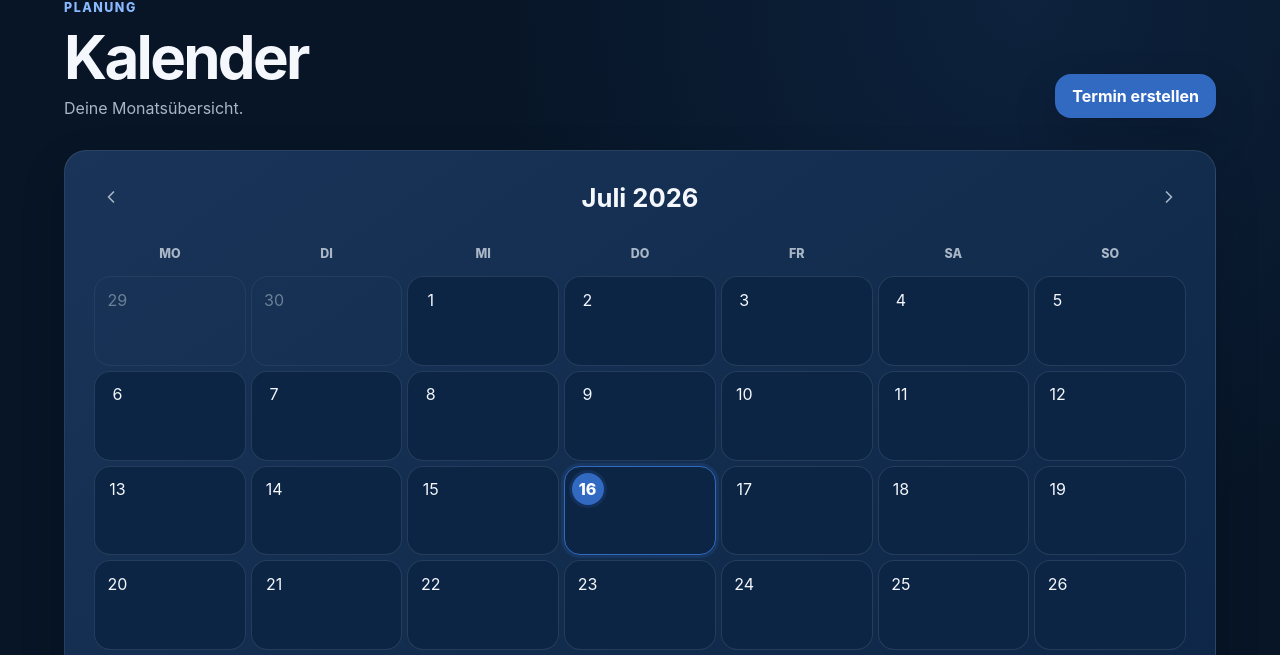
Test: CalendarPage › keeps the dialog open and the calendar unchanged after a storage failure
Click the button "20" at [170, 605], box [94, 560, 246, 650]
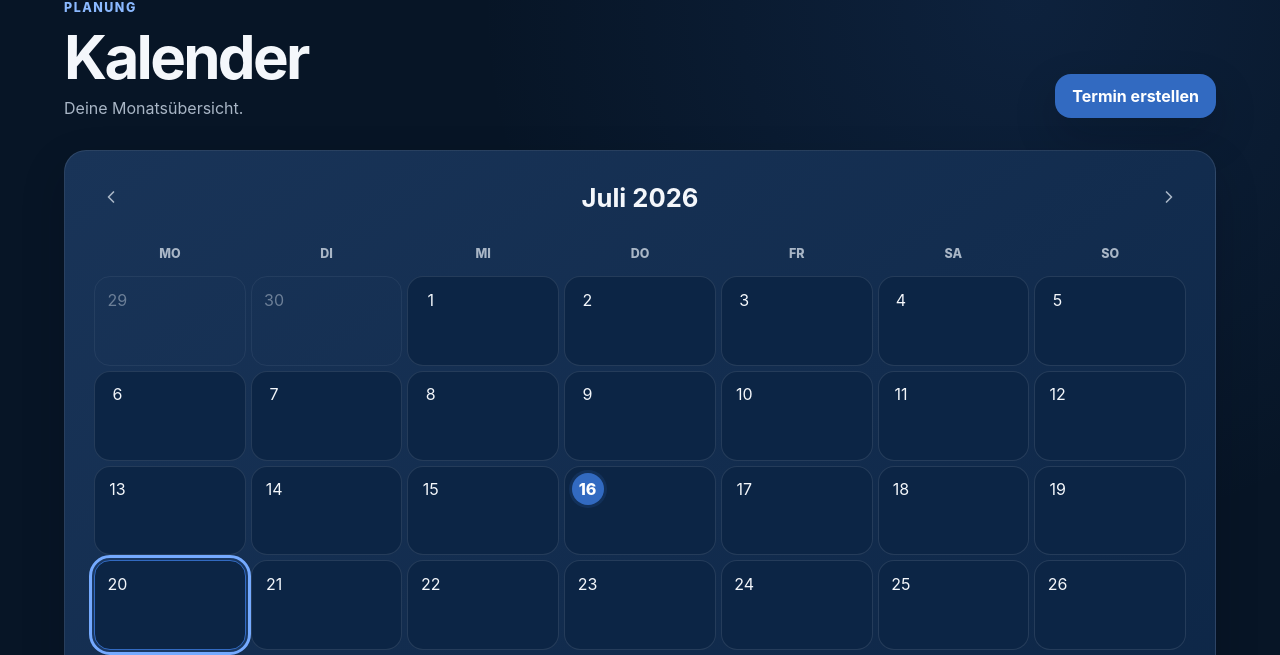
Click the button "Termin erstellen" at [1136, 96], box [1055, 74, 1216, 118]
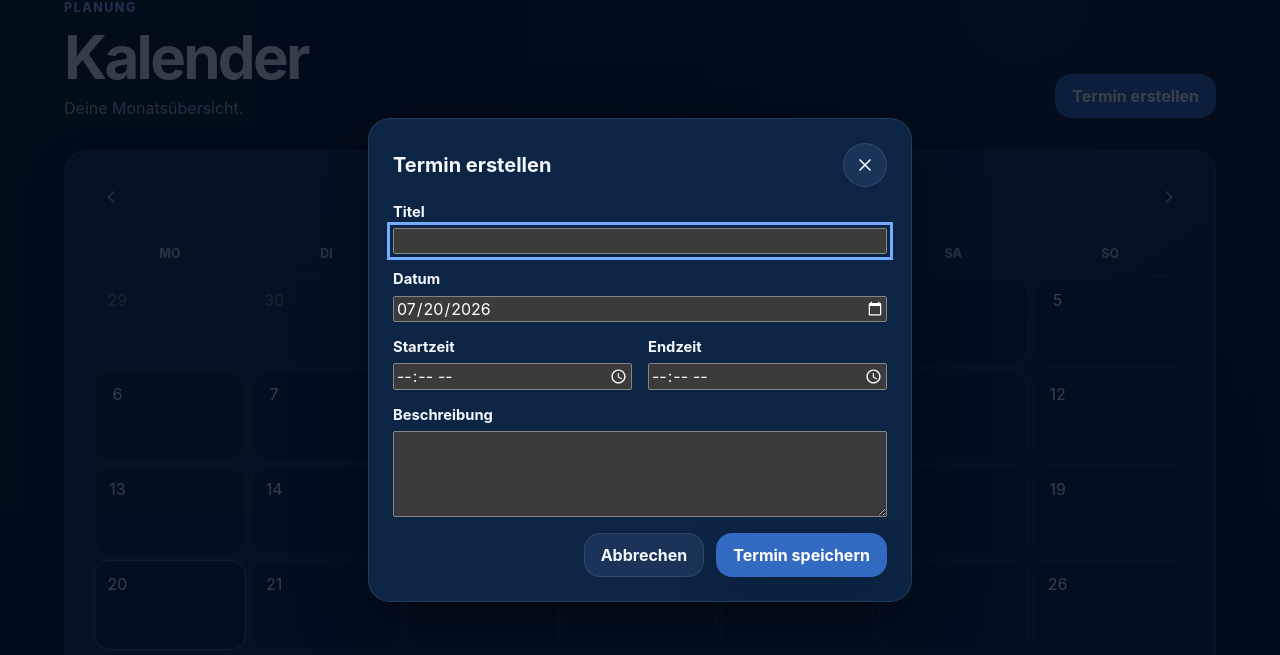
Type "Arzt" into the field labelled "Titel" at [640, 241], box [393, 228, 887, 254]
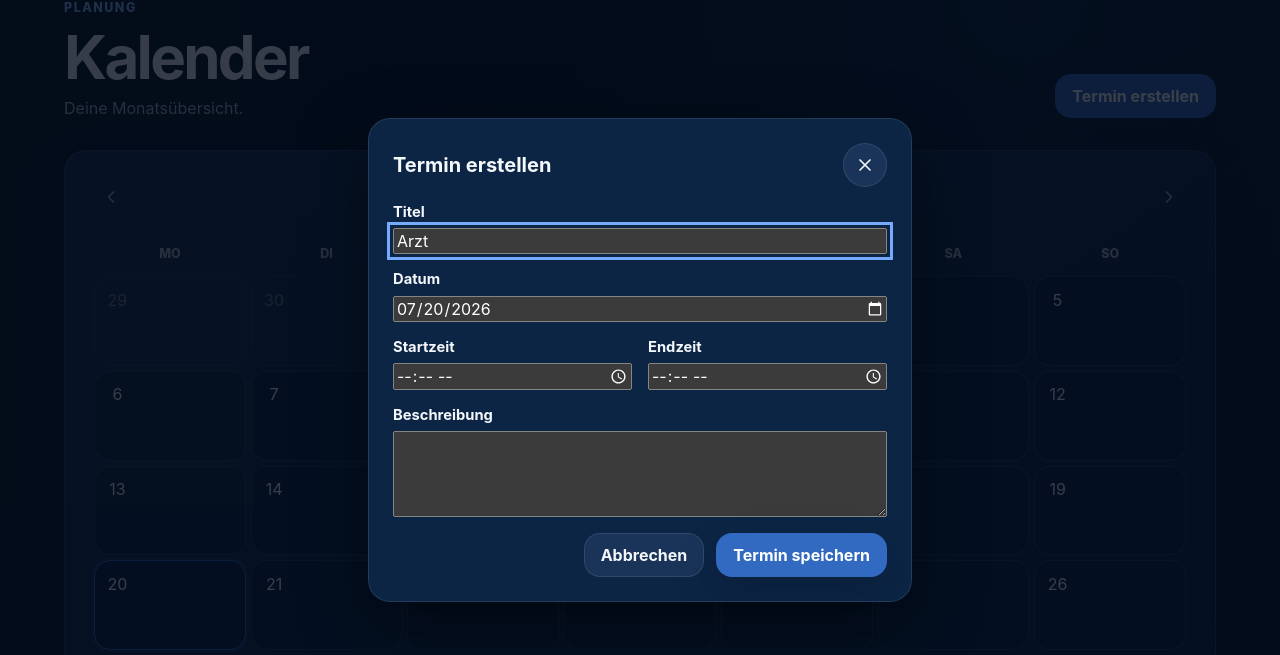
Click the button "Termin speichern" at [802, 555], box [716, 533, 887, 577]
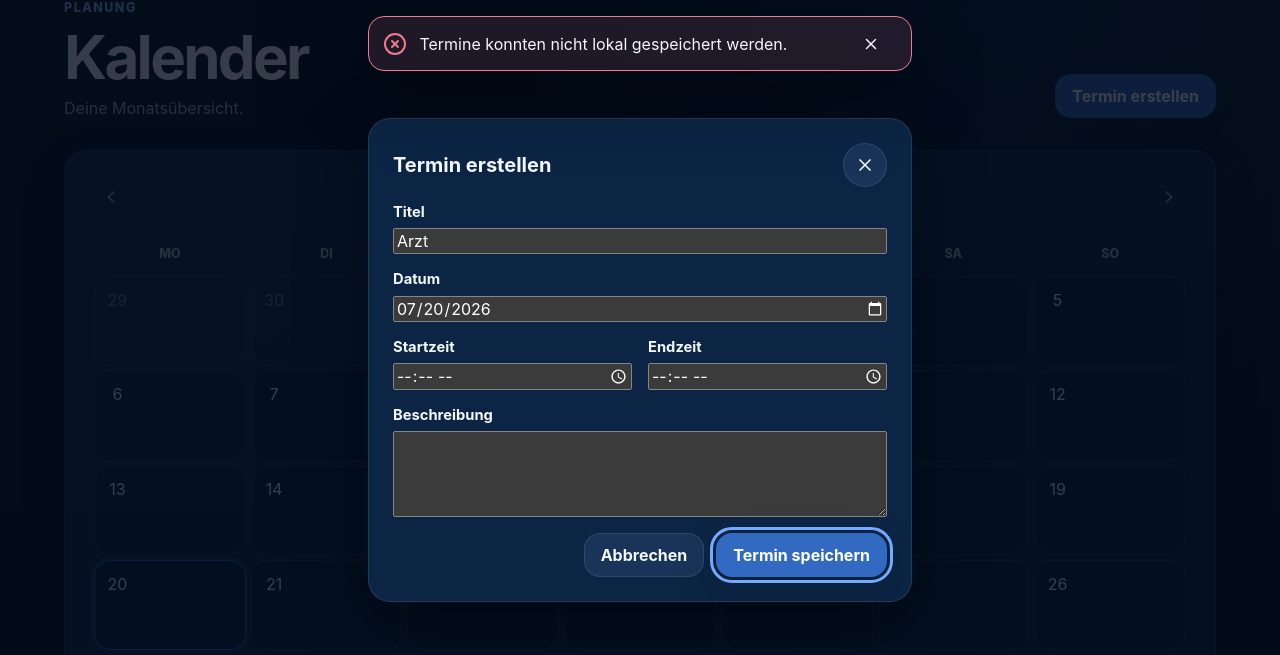
expect the dialog "Termin erstellen" is shown: met, box [368, 118, 912, 602]
expect the message named "Fehler: Termine konnten nicht lokal gespeichert werden." is shown: met, box [368, 16, 912, 71]
